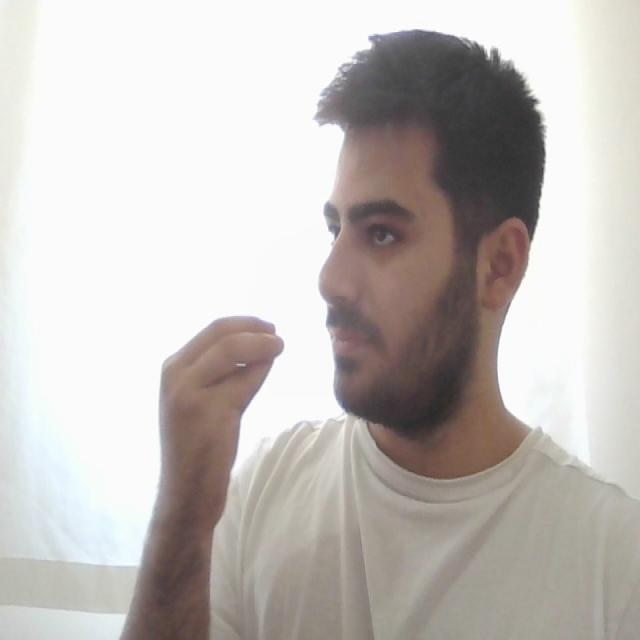Yemek: (156, 309, 382, 428)
